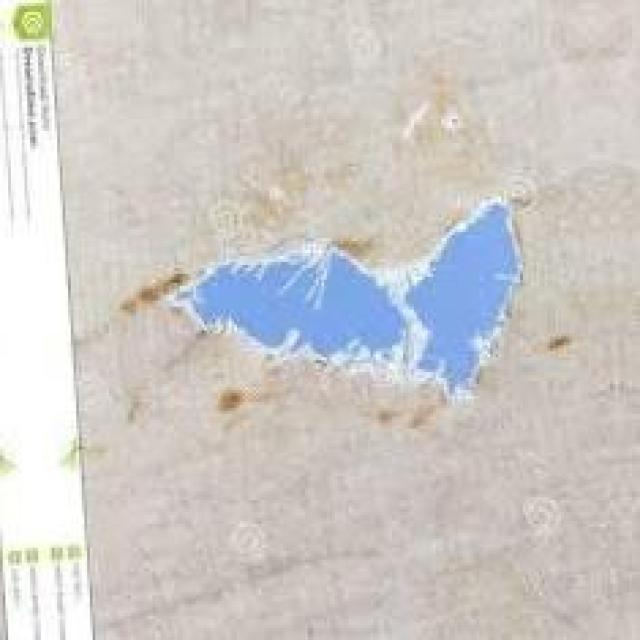cut: (166, 238, 409, 387), (410, 190, 530, 411)
